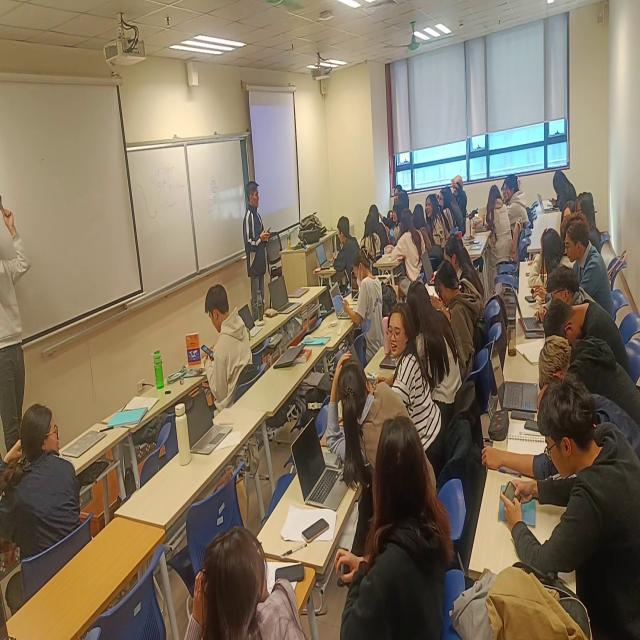raise_head: (362, 213, 382, 263), (440, 186, 457, 232), (453, 176, 470, 217), (389, 202, 403, 243), (392, 184, 403, 207)
sleep: (536, 326, 640, 413), (540, 295, 640, 368), (534, 267, 615, 328), (527, 219, 570, 282)
stand: (1, 177, 33, 456), (243, 177, 273, 322)
using_computer: (316, 215, 361, 289), (442, 234, 485, 292)
using_phone: (496, 369, 640, 639), (526, 209, 618, 309), (196, 280, 257, 404), (408, 278, 463, 403), (432, 257, 482, 374), (340, 247, 388, 352), (548, 164, 579, 212)
